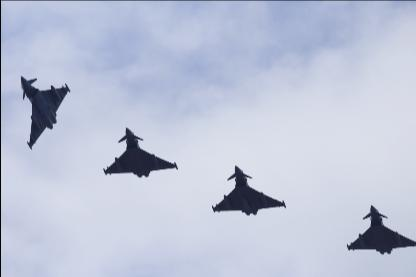E2: (102, 127, 178, 177), (212, 165, 286, 215), (20, 75, 70, 149), (346, 204, 415, 255)
